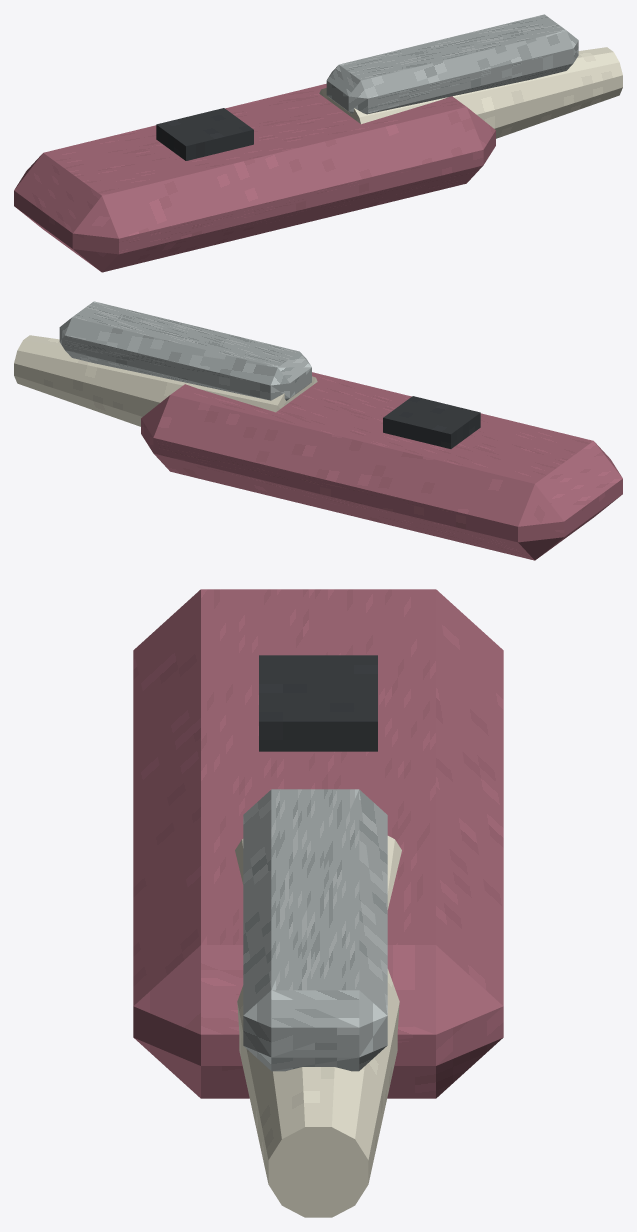
Rendered from curling_iron.glb.
The picture shows the model from 3 angles, top to bottom: view 1: azimuth 30°, elevation 25°; view 2: azimuth 150°, elevation 25°; view 3: azimuth 270°, elevation 25°; orthographic projection. The views are drawn at different scales.
Parts seen in each view (by area): view 1: block_molded handheld case, block_hair clip, block_barrel, block_power switch; view 2: block_molded handheld case, block_hair clip, block_barrel, block_power switch; view 3: block_molded handheld case, block_hair clip, block_barrel, block_power switch.
Part boxes in pixels (bbox=[...]): block_molded handheld case: bbox=[14, 83, 495, 272]; block_hair clip: bbox=[326, 14, 578, 114]; block_barrel: bbox=[319, 47, 622, 138]; block_power switch: bbox=[156, 108, 253, 160]; block_molded handheld case: bbox=[141, 372, 622, 560]; block_hair clip: bbox=[59, 301, 311, 400]; block_barrel: bbox=[14, 335, 317, 426]; block_power switch: bbox=[383, 396, 480, 448]; block_molded handheld case: bbox=[133, 589, 503, 1098]; block_hair clip: bbox=[243, 789, 387, 1071]; block_barrel: bbox=[235, 836, 401, 1217]; block_power switch: bbox=[259, 655, 377, 751].
Size of the model in its own units: 0.1184 by 0.0223 by 0.0335.
1 material, 1 textured.
